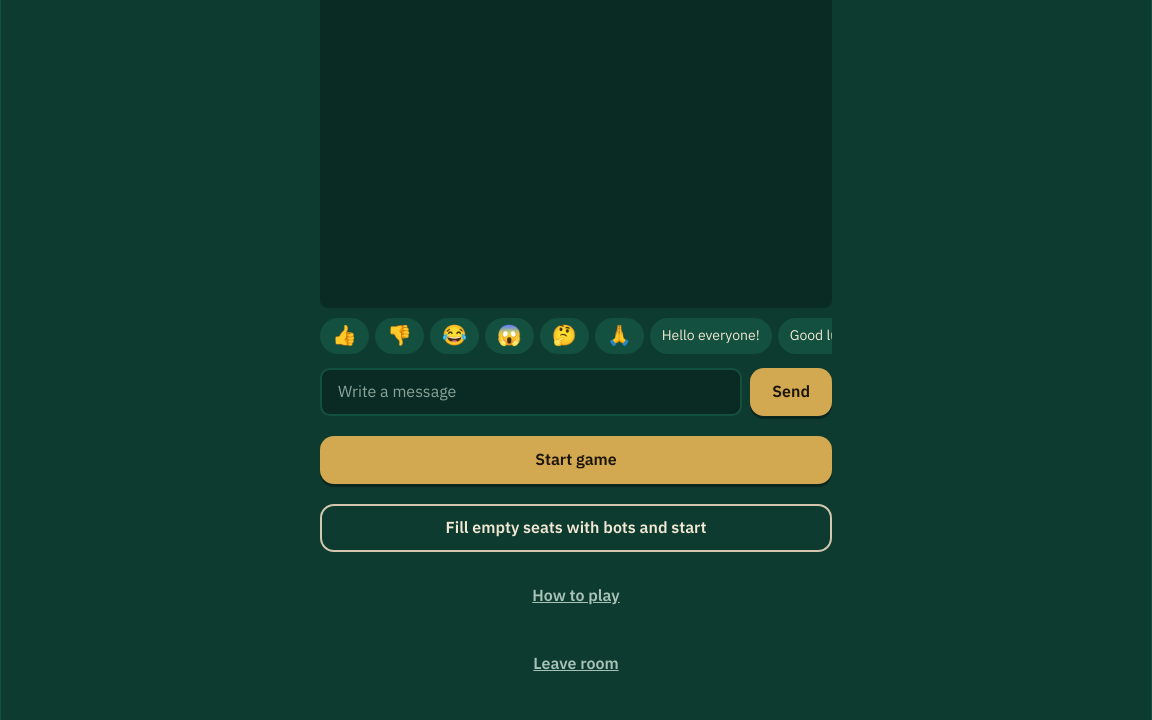
room size › offers a normal start plus an optional bot fill once there are enough players
(page scrolled)
Expected: the button "Start game" is shown, left=320, top=436, right=832, bottom=484
Click the button "Fill empty seats with bots and start". click: coordinates (576, 528)
box: left=320, top=504, right=832, bottom=552
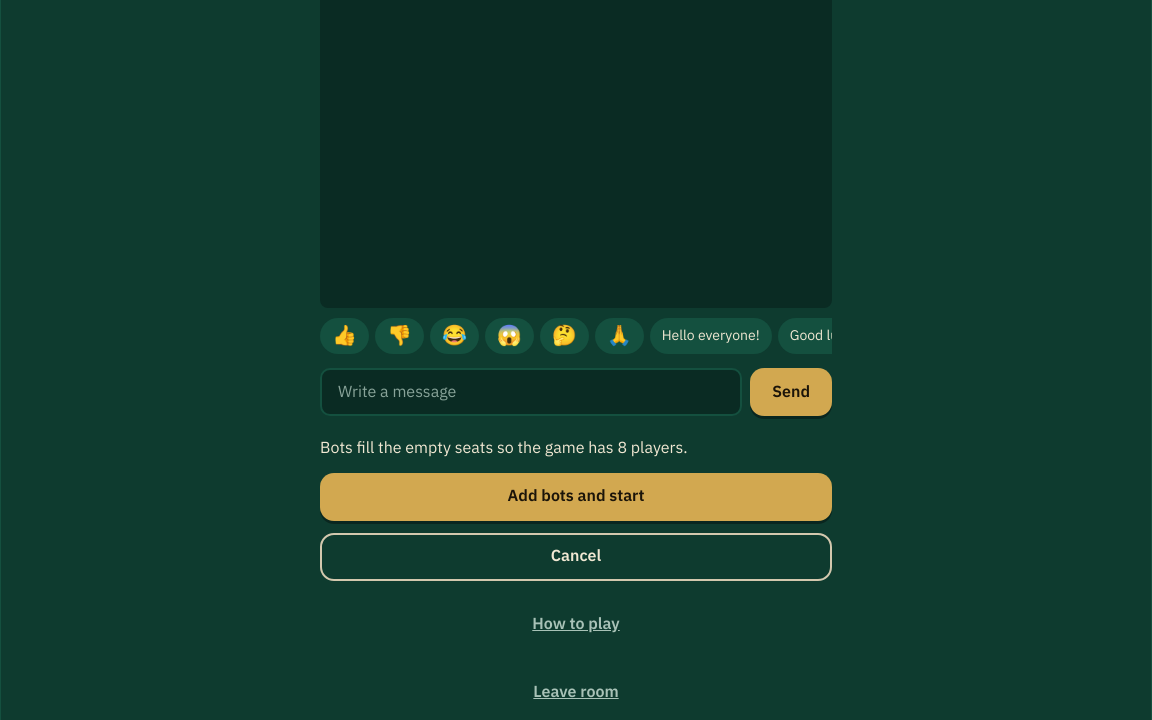
Result: the text "Bots fill the empty seats so the game has 8 players." is shown at left=320, top=436, right=688, bottom=460
Result: the button "Start game" is gone
